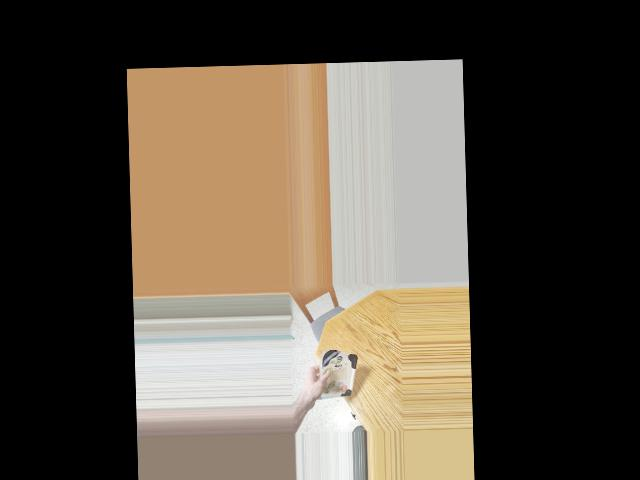cheese: (318, 346, 354, 405)
